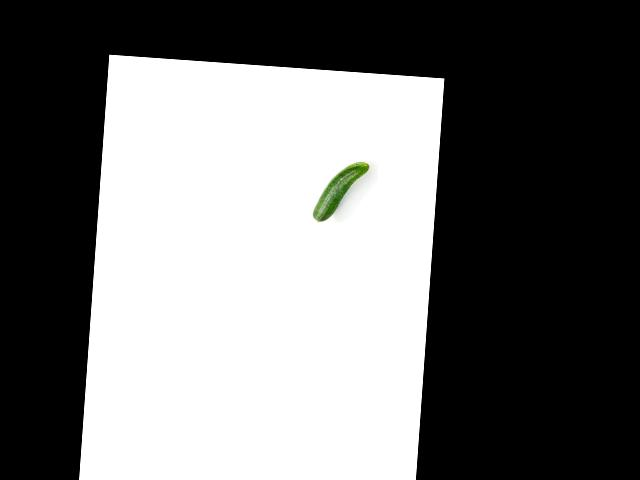cucumber: (312, 159, 370, 225)
